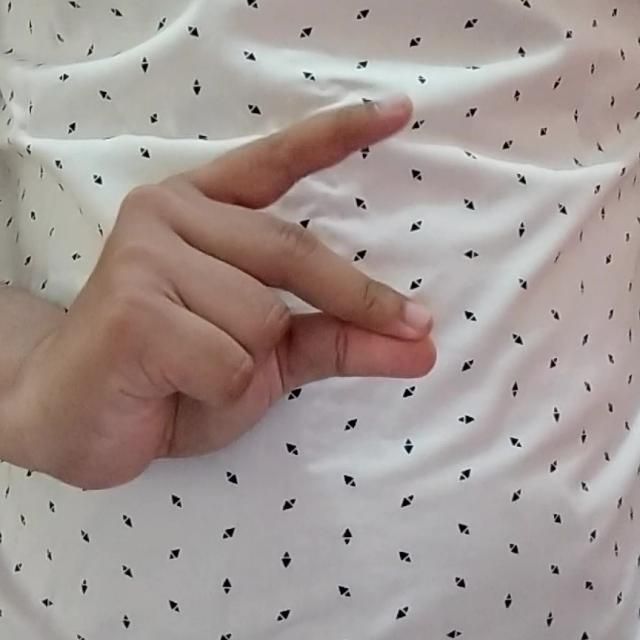R: (52, 86, 475, 504)
